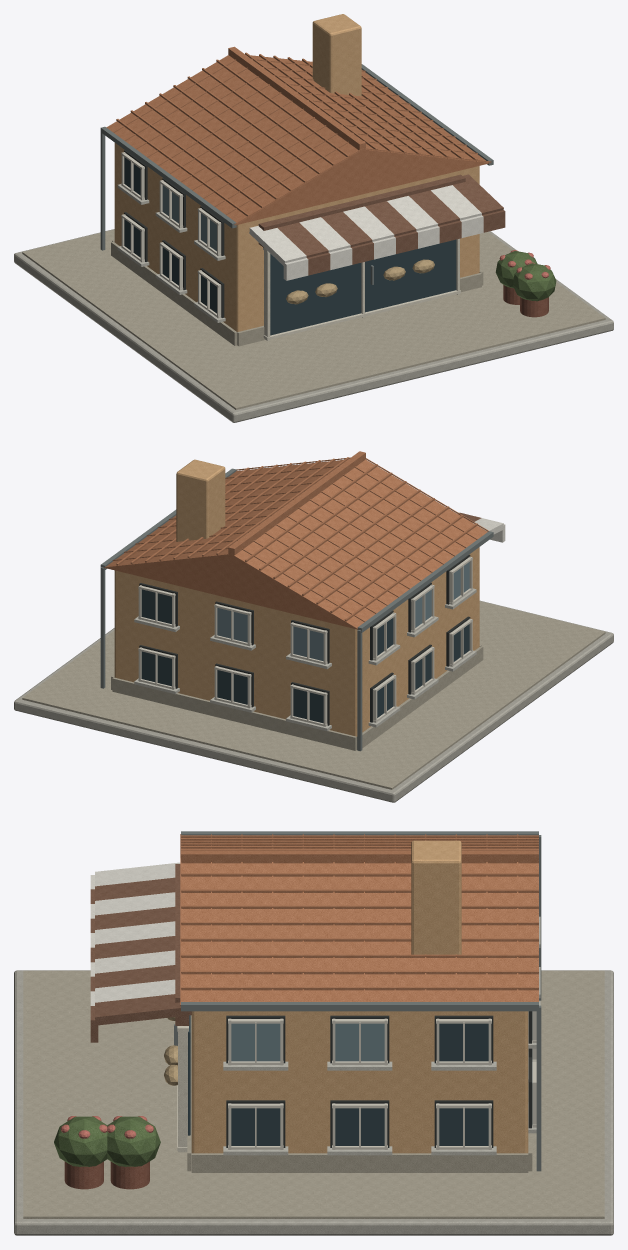
The model's file is EXP_SHOP_BAKERY.glb.
3 renders of one model, top to bottom at view 1: azimuth 30°, elevation 25°; view 2: azimuth 150°, elevation 25°; view 3: azimuth 270°, elevation 25°, orthographic. The views are drawn at different scales.
Parts seen in each view (by area): view 1: EXP_SHOP_BAKERY_Visual; view 2: EXP_SHOP_BAKERY_Visual; view 3: EXP_SHOP_BAKERY_Visual.
Boxes of the visible parts, <box> form: EXP_SHOP_BAKERY_Visual: <box>14,14,613,422</box>; EXP_SHOP_BAKERY_Visual: <box>14,451,613,802</box>; EXP_SHOP_BAKERY_Visual: <box>14,831,613,1235</box>.
Size of what is drawn, in the model's own units: 3.92 by 2.2 by 3.92.
18 materials, 13 textured.
